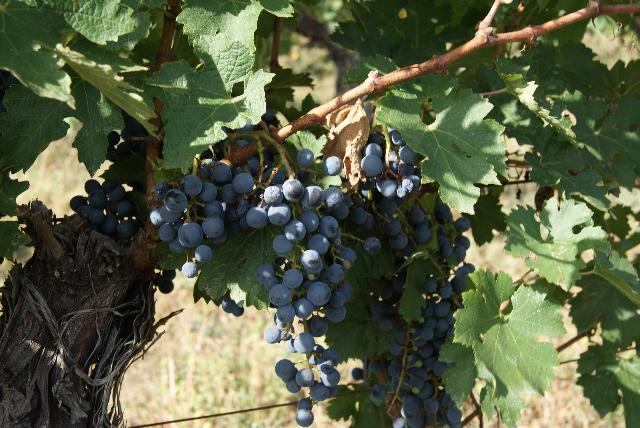grapes: (244, 179, 356, 426), (400, 218, 475, 428), (151, 159, 252, 278), (360, 154, 429, 250)
